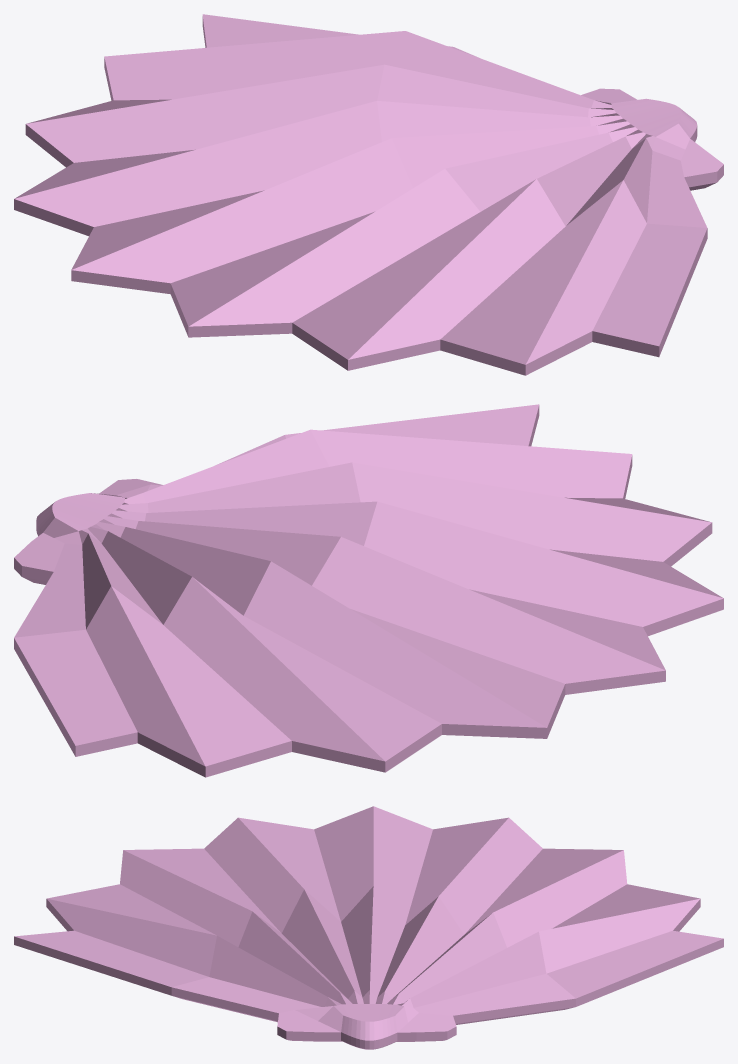
The model's file is Seashell.glb.
3 renders of one model, top to bottom at view 1: azimuth 30°, elevation 25°; view 2: azimuth 150°, elevation 25°; view 3: azimuth 270°, elevation 25°, orthographic. The views are drawn at different scales.
Visible parts, largest first — view 1: Seashell; view 2: Seashell; view 3: Seashell.
Part boxes in pixels (x1,y1,x2,y2): Seashell: [14, 14, 723, 375]; Seashell: [14, 404, 723, 777]; Seashell: [14, 806, 723, 1049].
Bounding box in the file's own units: 0.1572 × 0.0171 × 0.2005.
